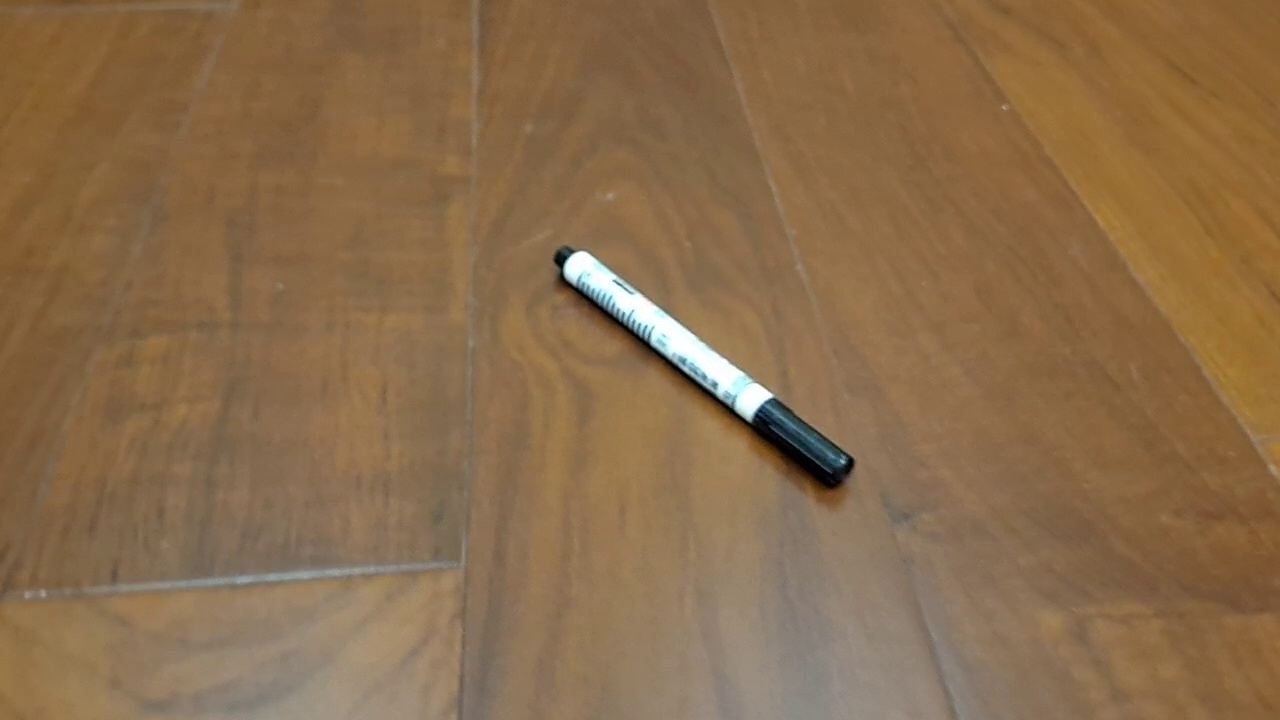pen: (552, 244, 856, 490)
